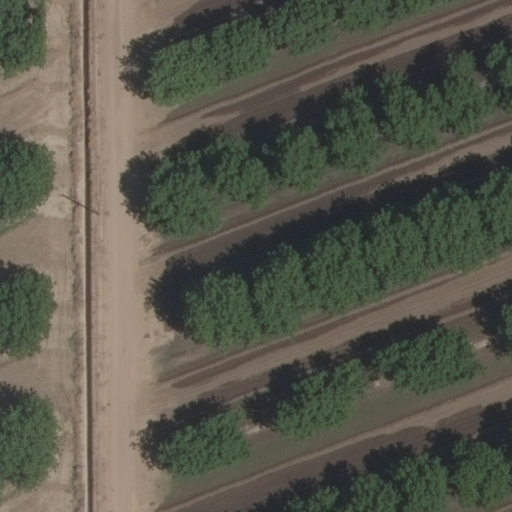DT: (81, 205, 106, 217)
